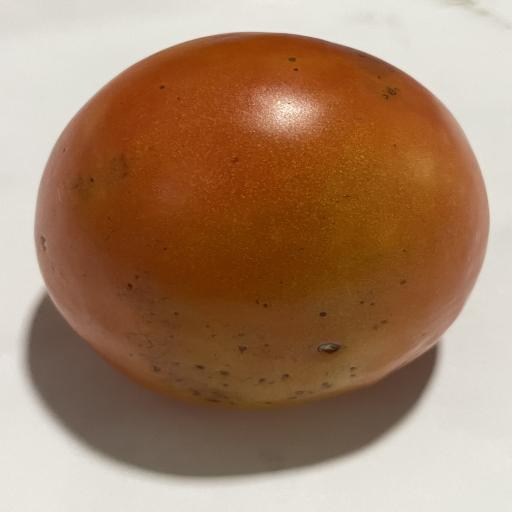unripe: (35, 33, 488, 409)
